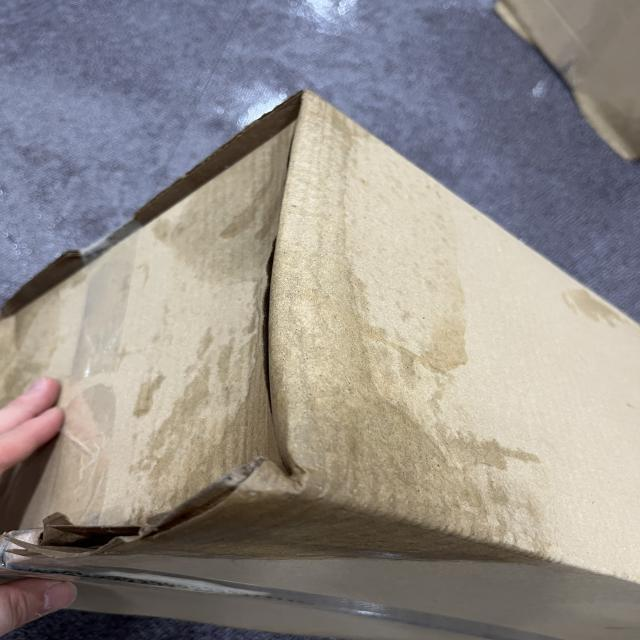wet: (155, 147, 537, 564)
